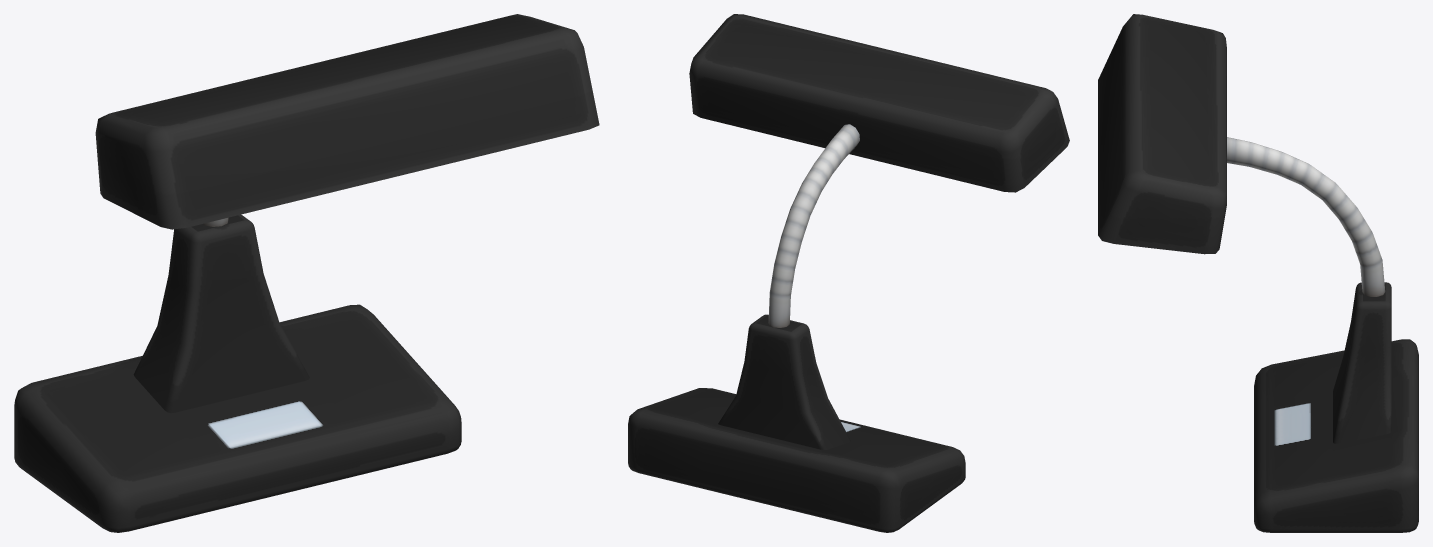
Rendered from OfficeTableLamp01.FBX.
3 views of the same model, side by side, from view 1: azimuth 30°, elevation 25°; view 2: azimuth 150°, elevation 25°; view 3: azimuth 270°, elevation 25° (orthographic). The views are drawn at different scales.
Parts seen in each view (by area): view 1: OfficeTableLamp01; view 2: OfficeTableLamp01; view 3: OfficeTableLamp01.
Part boxes in pixels (<box>): OfficeTableLamp01: <box>14,14,599,532</box>; OfficeTableLamp01: <box>628,14,1069,532</box>; OfficeTableLamp01: <box>1098,14,1418,532</box>.
Size of what is drawn, in the model's own units: 0.3176 by 0.326 by 0.2549.
